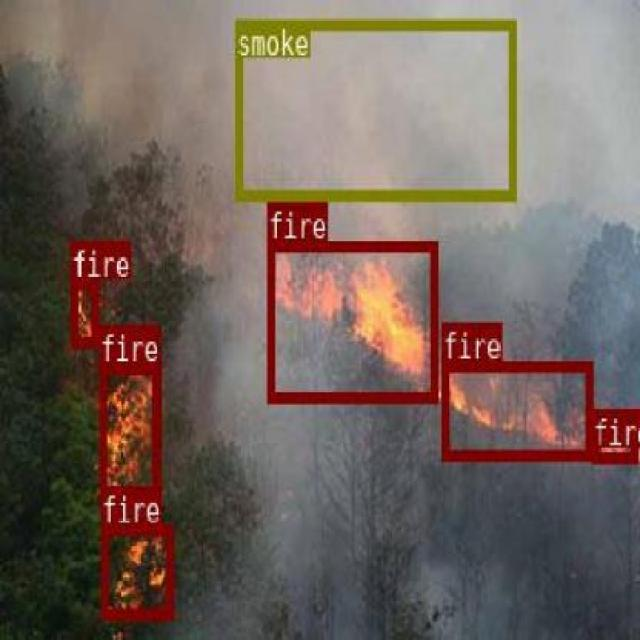Fire: (267, 240, 436, 400), (441, 358, 592, 457), (98, 363, 158, 503), (99, 523, 172, 617), (592, 408, 636, 461), (69, 277, 97, 345)
Smoke: (234, 18, 516, 198)
